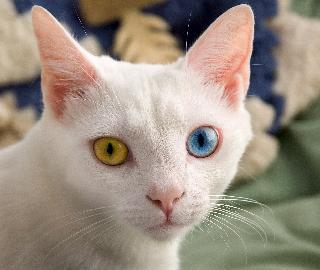Cat: (0, 2, 283, 270)
